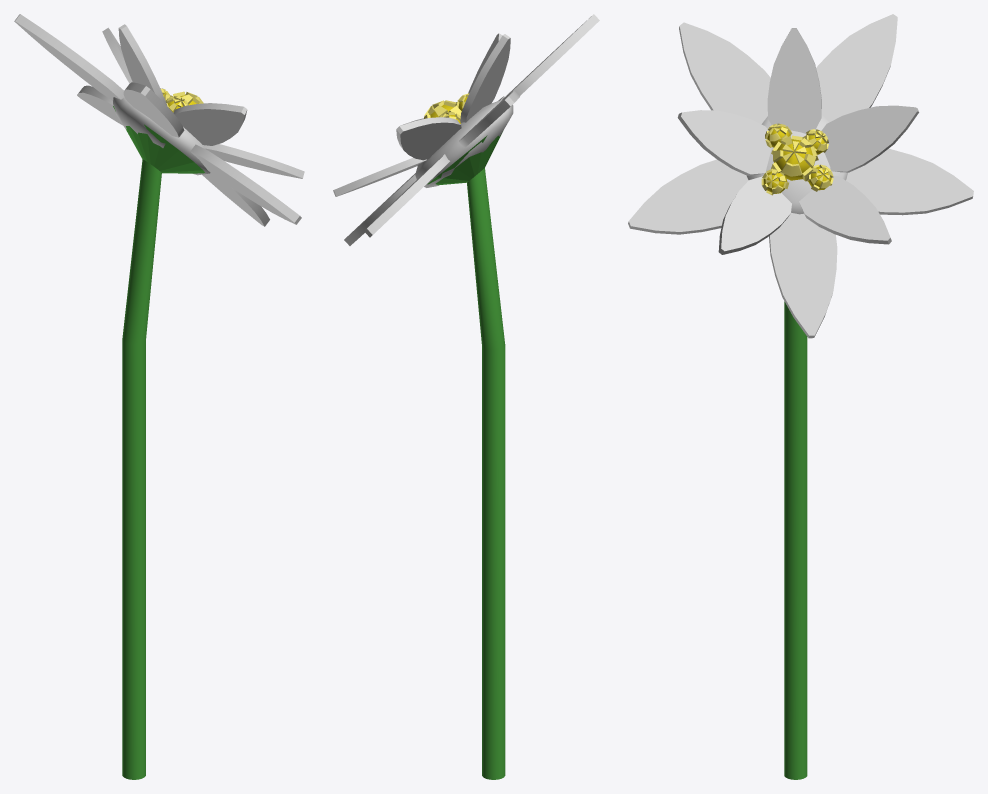
File: edelweiss.fbx
The picture shows the model from 3 angles, left to right: view 1: azimuth 30°, elevation 25°; view 2: azimuth 150°, elevation 25°; view 3: azimuth 270°, elevation 25°; orthographic projection.
Parts seen in each view (by area): view 1: edelweiss; view 2: edelweiss; view 3: edelweiss.
Boxes of the visible parts, x1,y1,x2,y2 form: edelweiss: (14,14,304,779); edelweiss: (333,14,599,779); edelweiss: (628,14,973,779).
Bounding box in the file's own units: 0.1411 × 0.4764 × 0.2012.
